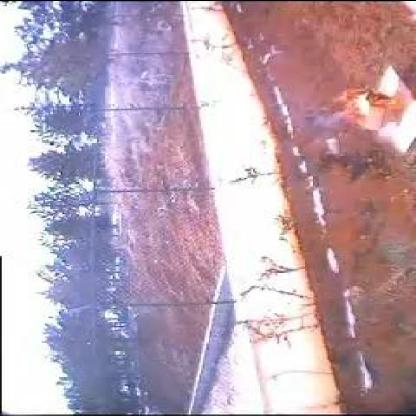foggia-v2-map80-epoch100 - v1 4323: (333, 84, 395, 121)
